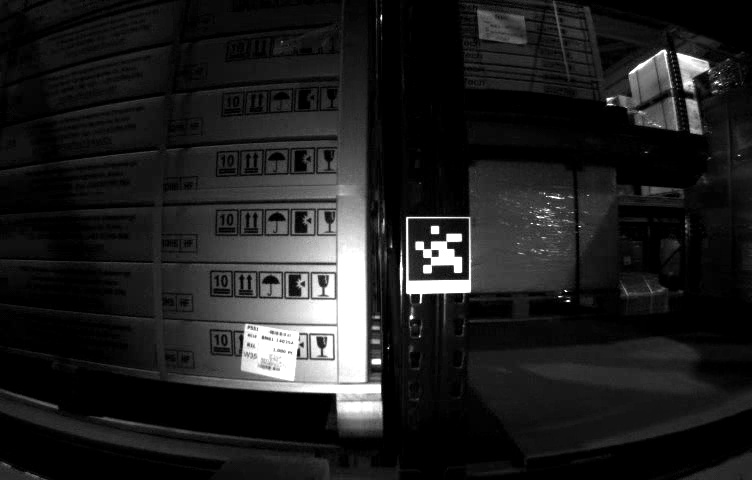True Barcode: (243, 322, 298, 383)
